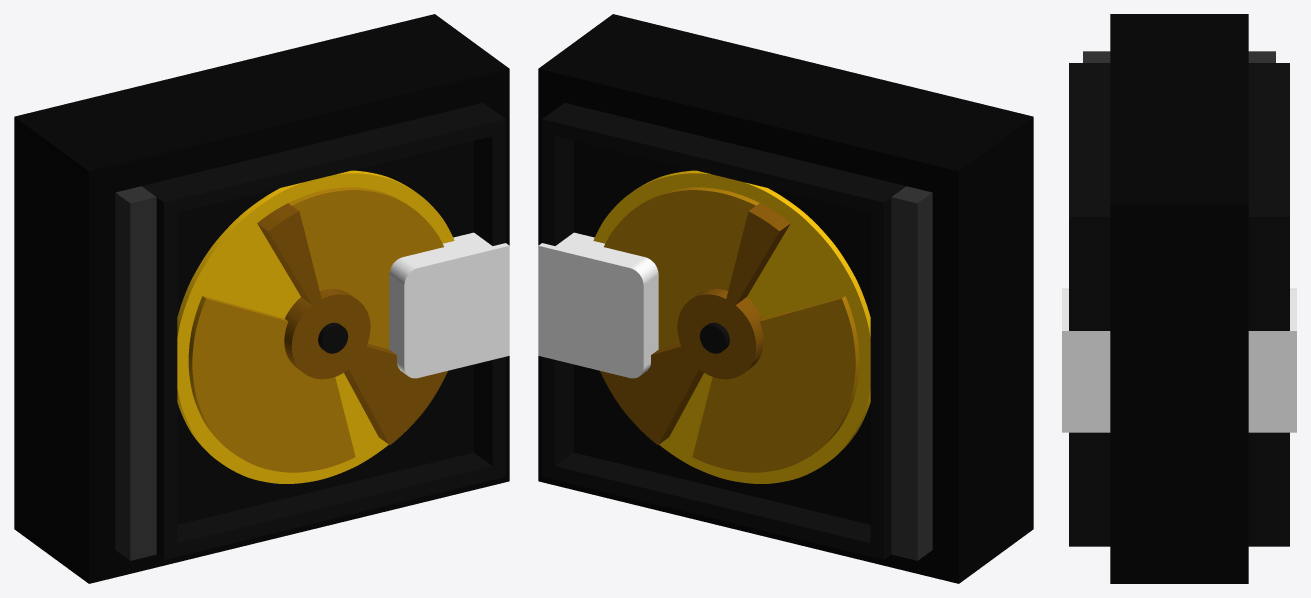
3 renders of one model, left to right at view 1: azimuth 30°, elevation 25°; view 2: azimuth 150°, elevation 25°; view 3: azimuth 270°, elevation 25°, orthographic. The views are drawn at different scales.
Visible parts, largest first — view 1: U+1F4BD_layer00_obj00, U+1F4BD_layer06_obj00, U+1F4BD_layer03_obj00, U+1F4BD_layer01_obj00, U+1F4BD_layer02_obj00, U+1F4BD_layer04_obj00, U+1F4BD_layer07_obj00, U+1F4BD_layer05_obj00; view 2: U+1F4BD_layer00_obj00, U+1F4BD_layer06_obj00, U+1F4BD_layer03_obj00, U+1F4BD_layer01_obj00, U+1F4BD_layer02_obj00, U+1F4BD_layer04_obj00, U+1F4BD_layer07_obj00, U+1F4BD_layer05_obj00; view 3: U+1F4BD_layer00_obj00, U+1F4BD_layer06_obj00, U+1F4BD_layer07_obj00, U+1F4BD_layer04_obj00.
Part boxes in pixels (x1,y1,x2,y2): U+1F4BD_layer00_obj00: (14,14,509,583); U+1F4BD_layer06_obj00: (142,102,505,559); U+1F4BD_layer03_obj00: (188,187,443,472); U+1F4BD_layer01_obj00: (177,141,473,524); U+1F4BD_layer02_obj00: (177,170,454,483); U+1F4BD_layer04_obj00: (115,186,156,560); U+1F4BD_layer07_obj00: (389,232,509,378); U+1F4BD_layer05_obj00: (257,203,447,444); U+1F4BD_layer00_obj00: (538,14,1033,583); U+1F4BD_layer06_obj00: (542,102,905,559); U+1F4BD_layer03_obj00: (604,187,859,472); U+1F4BD_layer01_obj00: (574,141,870,524); U+1F4BD_layer02_obj00: (593,170,870,483); U+1F4BD_layer04_obj00: (891,186,932,560); U+1F4BD_layer07_obj00: (538,232,658,378); U+1F4BD_layer05_obj00: (600,203,790,444); U+1F4BD_layer00_obj00: (1110,14,1248,583); U+1F4BD_layer06_obj00: (1069,63,1289,546); U+1F4BD_layer07_obj00: (1062,288,1296,432); U+1F4BD_layer04_obj00: (1083,51,1275,62).
Bounding box in the file's own units: 0.6491 × 0.6084 × 0.34.
